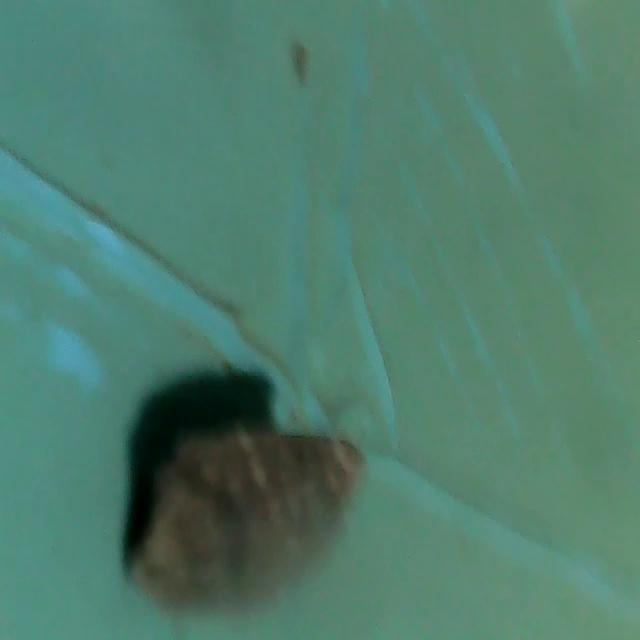rock: (113, 395, 375, 624)
